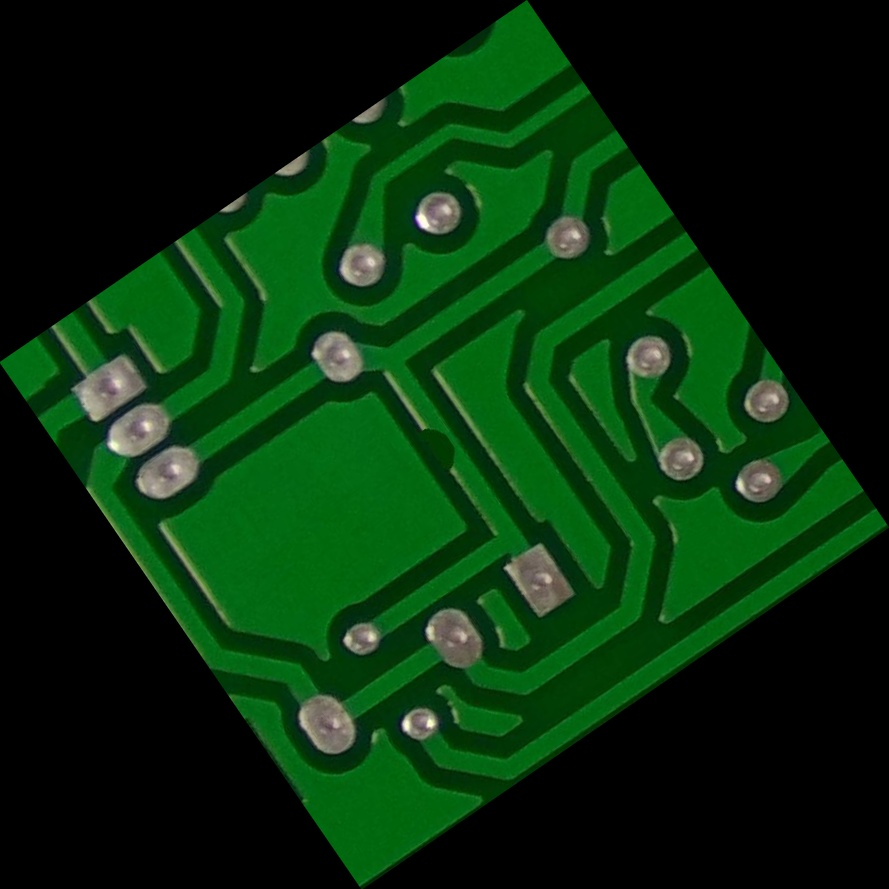mouse_bite: (401, 398, 489, 492)
